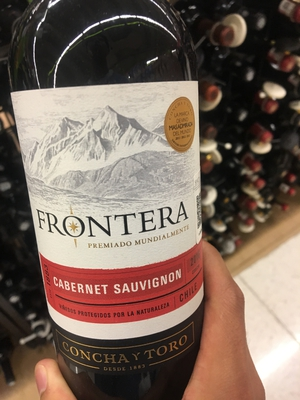frontera cabernet sauvignon: (12, 4, 207, 397)
